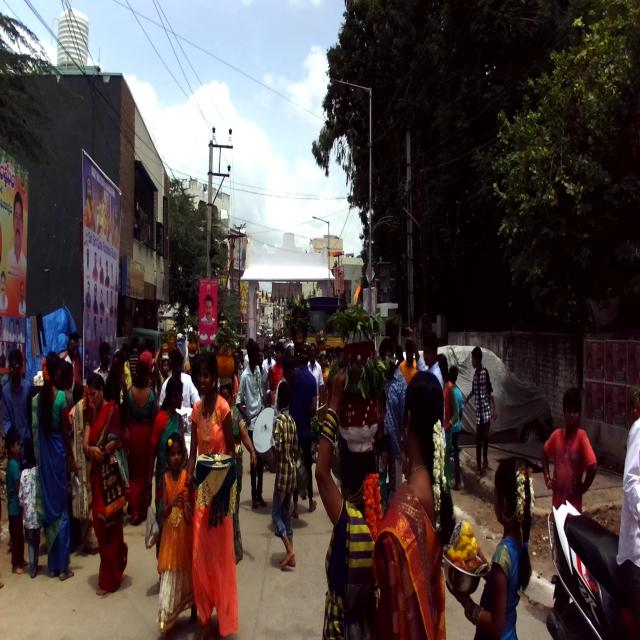Car: (416, 344, 553, 444)
scooter: (544, 499, 638, 639)
